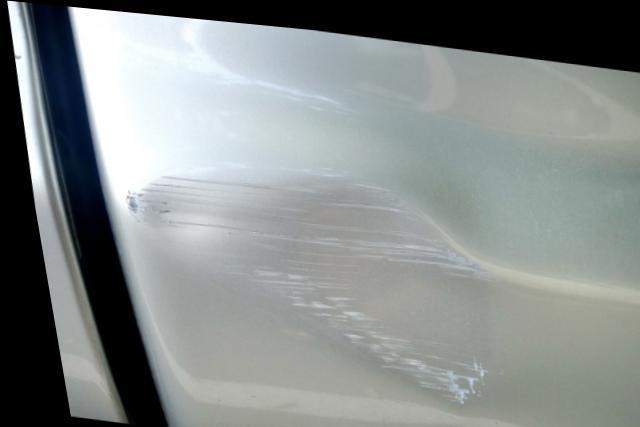dent: (128, 163, 494, 398)
